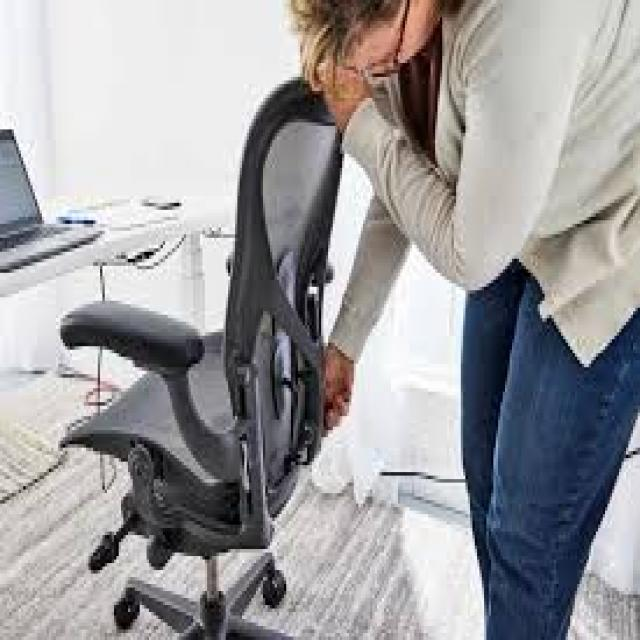chair: (14, 56, 389, 640)
